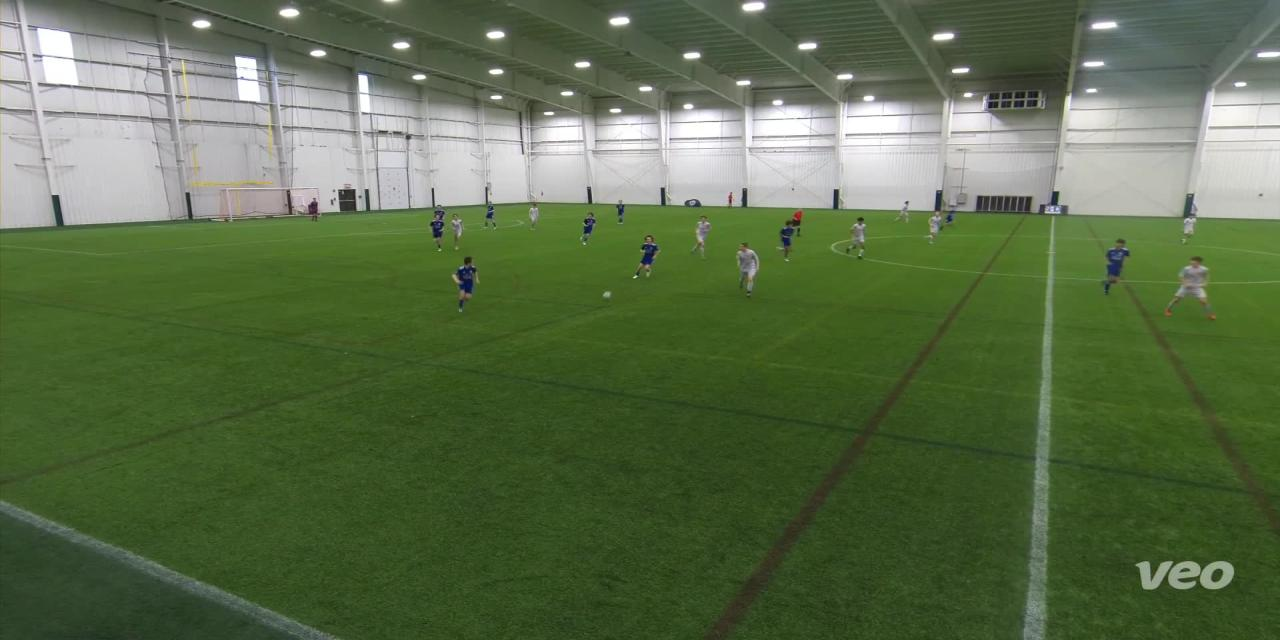goal: (207, 184, 330, 222)
sports ball: (596, 288, 613, 301)
